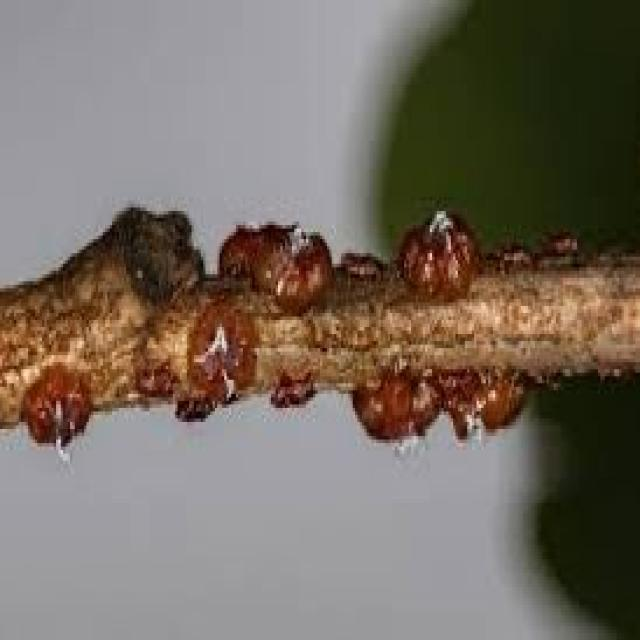Black Scale: (357, 369, 523, 450), (217, 222, 334, 313), (397, 200, 479, 295), (19, 362, 91, 461), (189, 299, 252, 408)
